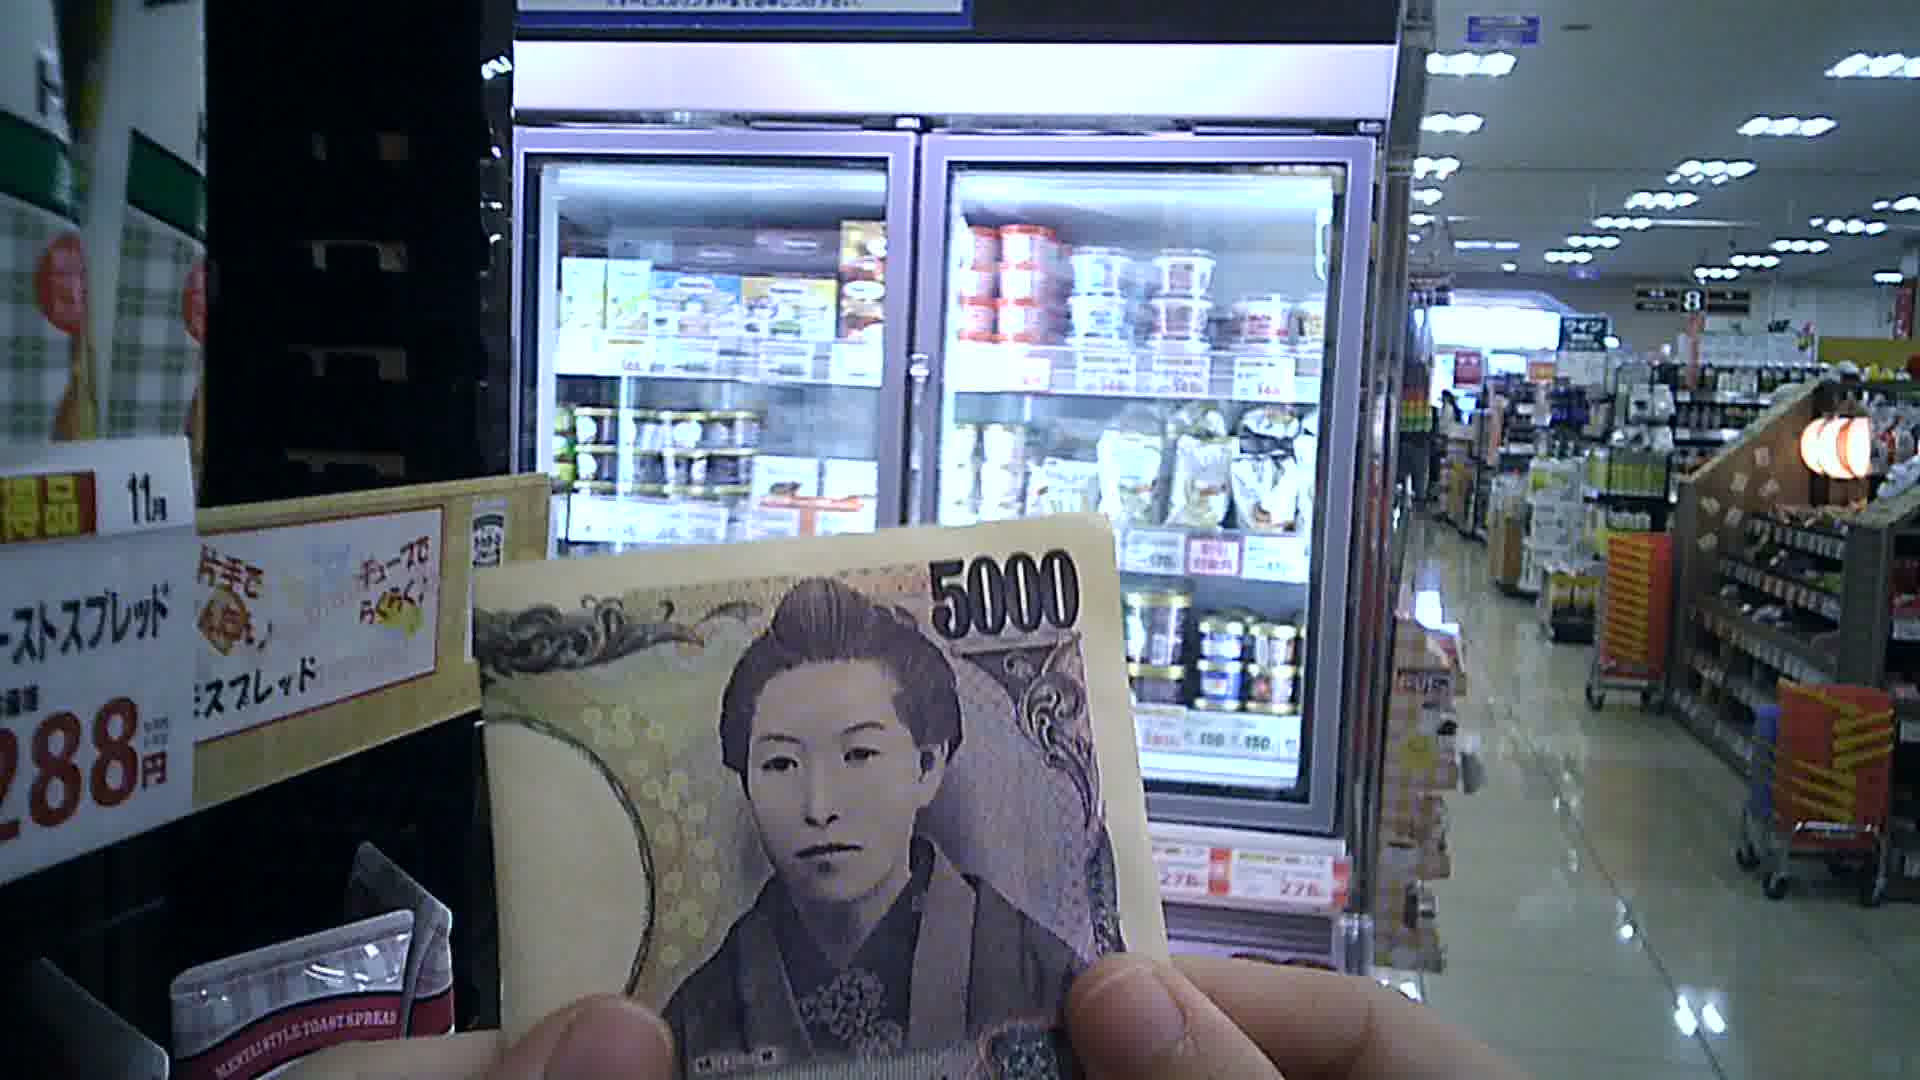5,000 Yen: (460, 525, 1188, 1079)
